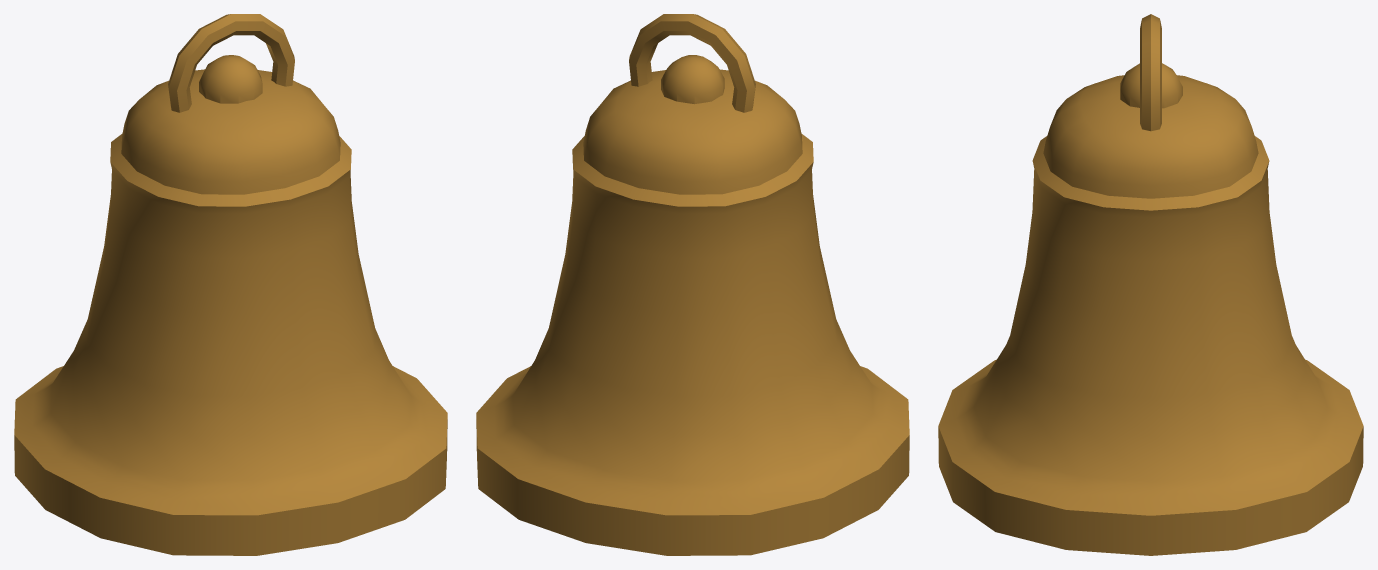
The model's file is Bell.gltf.
3 views of the same model, side by side, from view 1: azimuth 30°, elevation 25°; view 2: azimuth 150°, elevation 25°; view 3: azimuth 270°, elevation 25° (orthographic).
Visible parts, largest first — view 1: Bell; view 2: Bell; view 3: Bell.
Boxes of the visible parts, x1,y1,x2,y2 form: Bell: [14, 14, 447, 555]; Bell: [476, 14, 909, 555]; Bell: [938, 14, 1363, 555].
Size of the model in its own units: 0.6331 by 0.7325 by 0.6331.
